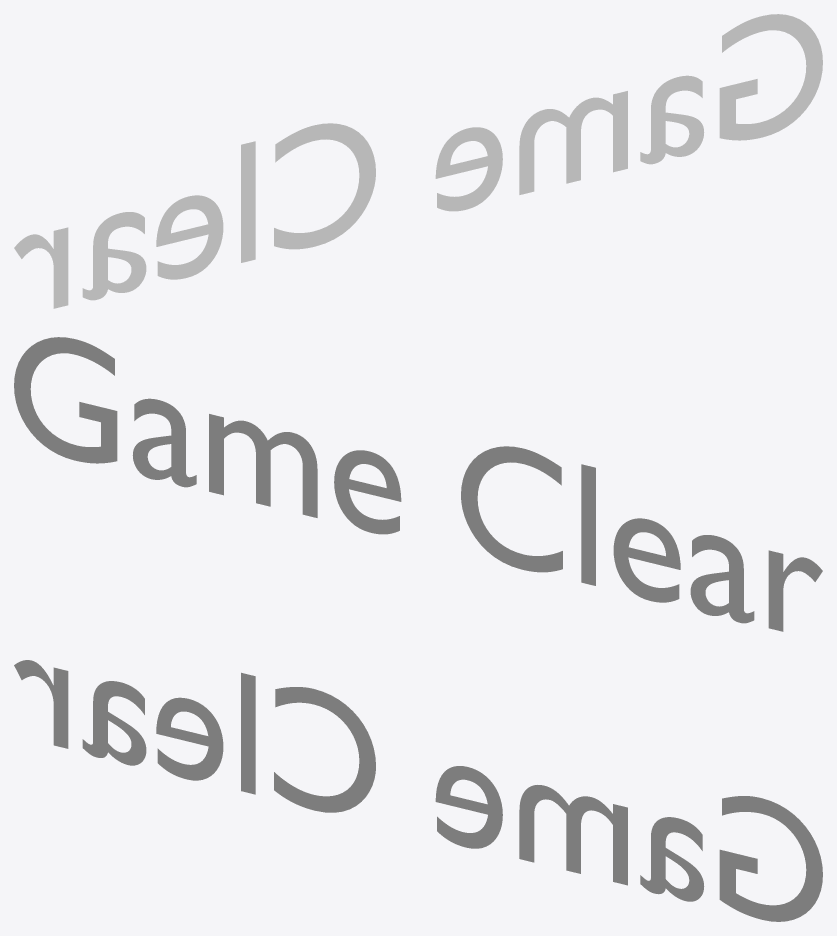
Rendered from GameClearText.obj.
3 renders of one model, top to bottom at view 1: azimuth 30°, elevation 25°; view 2: azimuth 150°, elevation 25°; view 3: azimuth 330°, elevation 25°, orthographic.
Parts seen in each view (by area): view 1: テキスト; view 2: テキスト; view 3: テキスト.
Part boxes in pixels (x1,y1,x2,y2): テキスト: (14,14,822,308); テキスト: (14,337,822,631); テキスト: (14,660,822,921).
Size of the model in its own units: 4.88 by 0.7 by 0.
Materials: 1 (1 with a texture image).
